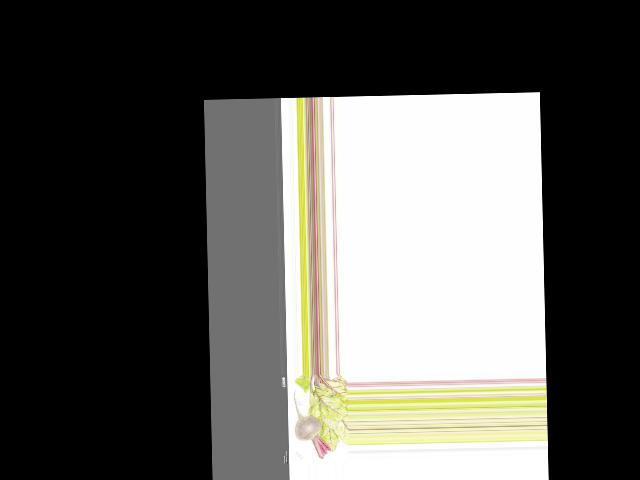beet: (293, 389, 331, 460)
